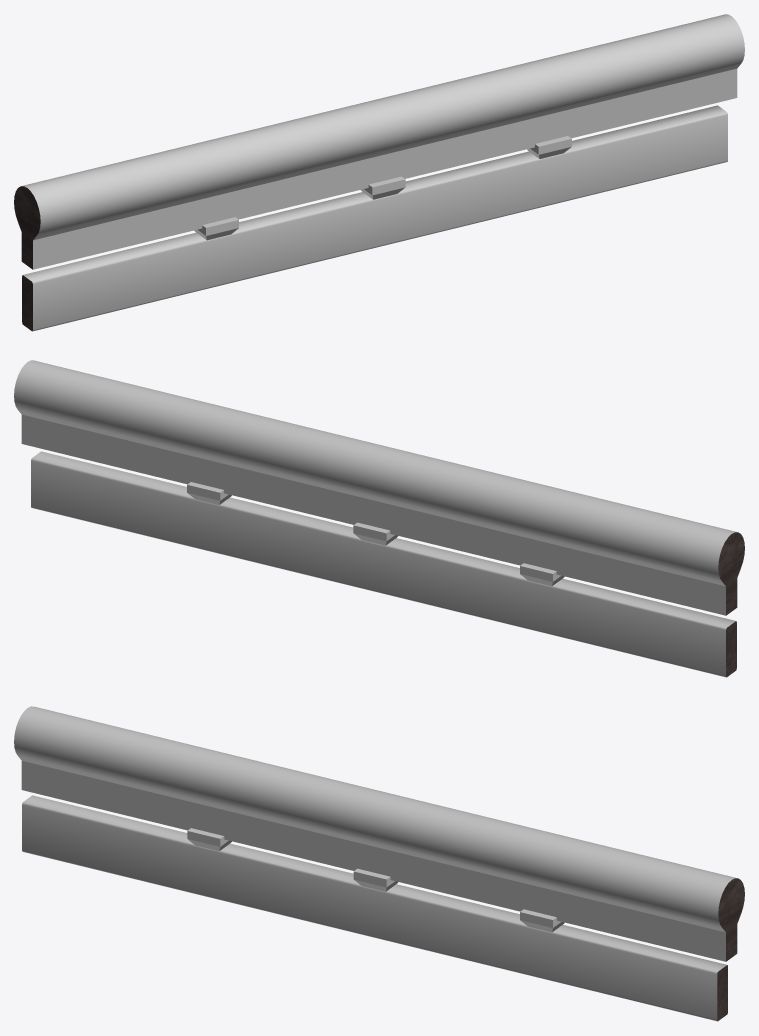
File: SM_Roof_Foundation_18.FBX
3 renders of one model, top to bottom at view 1: azimuth 30°, elevation 25°; view 2: azimuth 150°, elevation 25°; view 3: azimuth 330°, elevation 25°, orthographic.
Parts seen in each view (by area): view 1: SM_Roof_Foundation_18; view 2: SM_Roof_Foundation_18; view 3: SM_Roof_Foundation_18.
Part boxes in pixels (x1,y1,x2,y2): SM_Roof_Foundation_18: (14,14,744,331); SM_Roof_Foundation_18: (14,360,744,677); SM_Roof_Foundation_18: (14,706,744,1021).
Size of the model in its own units: 757 by 144 by 49.65.
